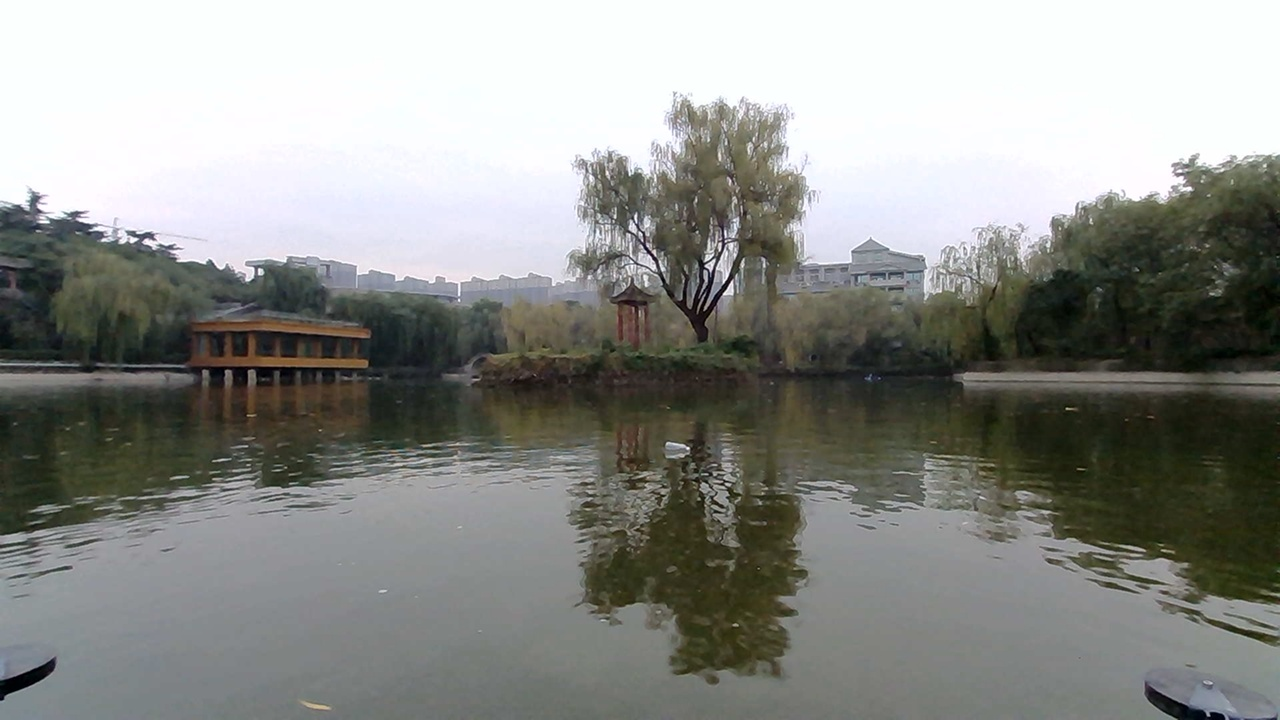bottle: (646, 426, 710, 459)
